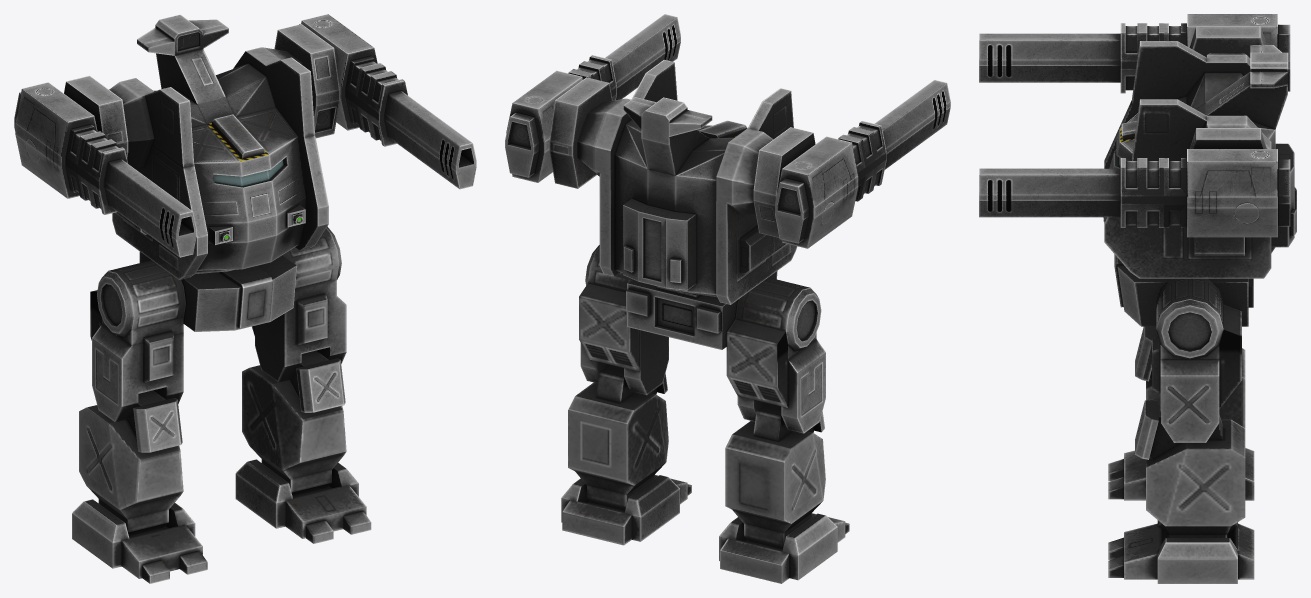
The picture shows the model from 3 angles, left to right: view 1: azimuth 30°, elevation 25°; view 2: azimuth 150°, elevation 25°; view 3: azimuth 270°, elevation 25°; orthographic projection. The views are drawn at different scales.
Parts seen in each view (by area): view 1: torso, lupperleg, llowerleg, rlowerleg, DG_luppera, rupperarm, rupperleg, rfoot, lfoot, pelvis, barrel_2, barrel_1; view 2: torso, lupperleg, DG_luppera, llowerleg, rlowerleg, rupperarm, rupperleg, rfoot, lfoot, pelvis, barrel_2, barrel_1; view 3: torso, rupperarm, rupperleg, rlowerleg, rfoot, barrel_2, barrel_1, DG_luppera, pelvis, lfoot, llowerleg.
Boxes of the visible parts, <box> form: torso: <box>109,14,328,279</box>; lupperleg: <box>90,260,185,422</box>; llowerleg: <box>79,390,183,535</box>; rlowerleg: <box>242,350,346,495</box>; DG_luppera: <box>14,75,128,214</box>; rupperarm: <box>274,14,407,146</box>; rupperleg: <box>252,226,346,382</box>; rfoot: <box>235,459,371,543</box>; lfoot: <box>72,499,207,583</box>; pelvis: <box>139,251,296,331</box>; barrel_2: <box>104,159,196,257</box>; barrel_1: <box>384,91,476,189</box>; torso: <box>577,59,797,304</box>; lupperleg: <box>726,277,825,433</box>; DG_luppera: <box>753,121,886,248</box>; llowerleg: <box>725,403,825,549</box>; rlowerleg: <box>568,364,668,510</box>; rupperarm: <box>505,55,616,188</box>; rupperleg: <box>579,245,668,395</box>; rfoot: <box>561,475,691,545</box>; lfoot: <box>719,513,849,583</box>; pelvis: <box>626,271,777,349</box>; barrel_2: <box>874,80,950,169</box>; barrel_1: <box>605,14,680,99</box>; torso: <box>1104,41,1296,278</box>; rupperarm: <box>1120,128,1290,237</box>; rupperleg: <box>1152,278,1241,442</box>; rlowerleg: <box>1135,399,1245,537</box>; rfoot: <box>1108,520,1254,583</box>; barrel_2: <box>979,33,1120,82</box>; barrel_1: <box>979,168,1120,217</box>; DG_luppera: <box>1120,14,1290,93</box>; pelvis: <box>1114,254,1253,326</box>; lfoot: <box>1108,447,1254,500</box>; llowerleg: <box>1135,326,1245,427</box>.
Bounding box in the file's own units: 47.09 × 66.65 × 41.11.
Materials: 1 (1 with a texture image).
